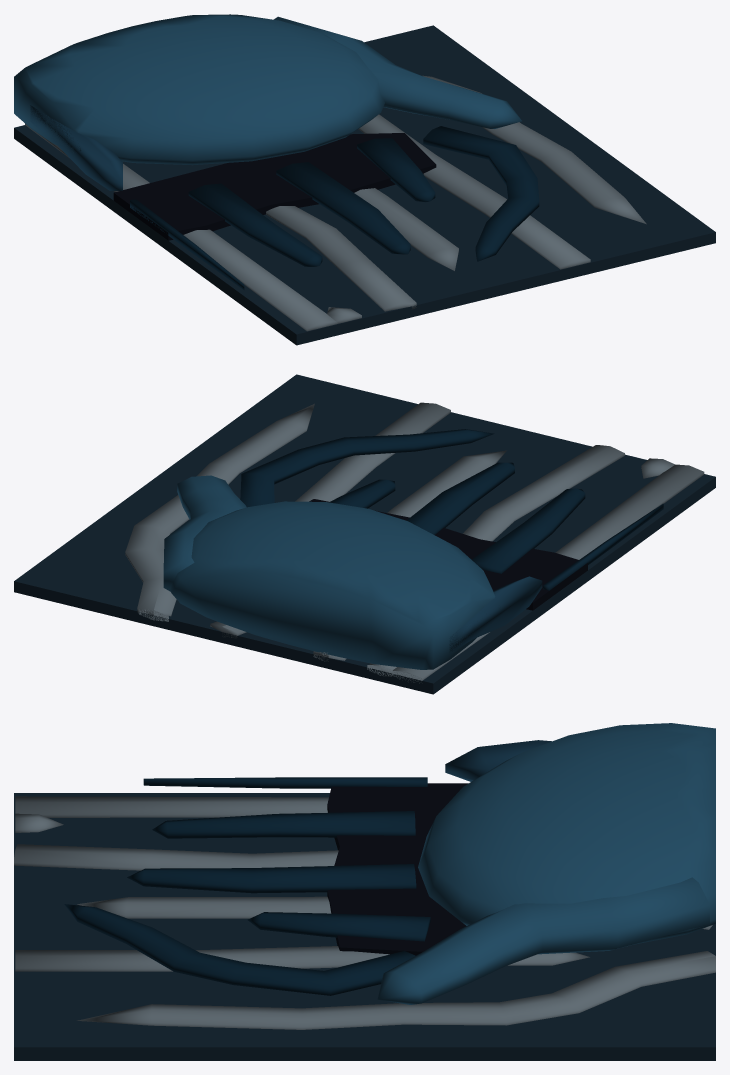
The model's file is newshh-45.glb.
3 views of the same model, one above another, from view 1: azimuth 30°, elevation 25°; view 2: azimuth 150°, elevation 25°; view 3: azimuth 270°, elevation 25° (orthographic). The views are drawn at different scales.
Parts seen in each view (by area): view 1: newshh-45; view 2: newshh-45; view 3: newshh-45.
Boxes of the visible parts, x1,y1,x2,y2 form: newshh-45: (14,14,715,345); newshh-45: (14,374,715,694); newshh-45: (14,723,715,1060).
Size of the model in its own units: 2 by 0.41 by 2.33.
